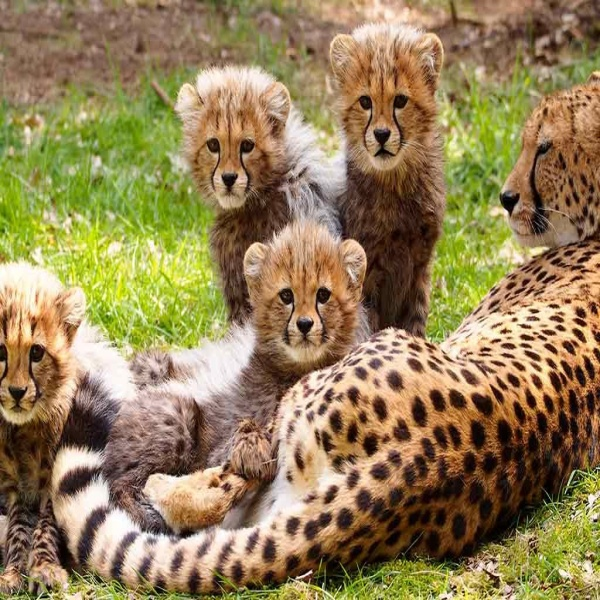Cheetah: (279, 69, 597, 563), (174, 60, 352, 312), (327, 18, 437, 337), (1, 257, 91, 593), (241, 216, 369, 379)
